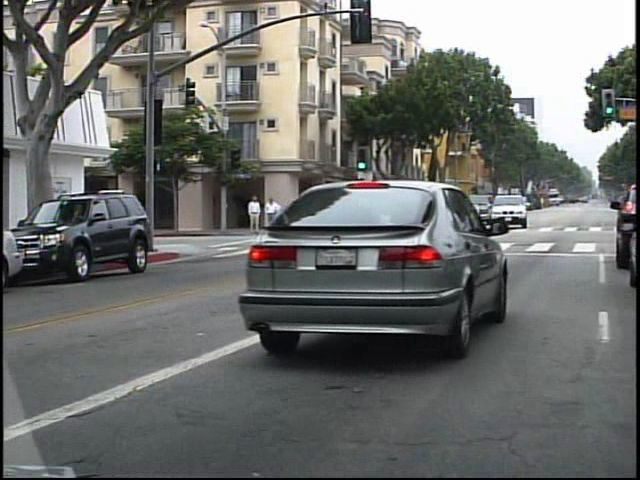person: (243, 191, 261, 240), (260, 194, 280, 235)
